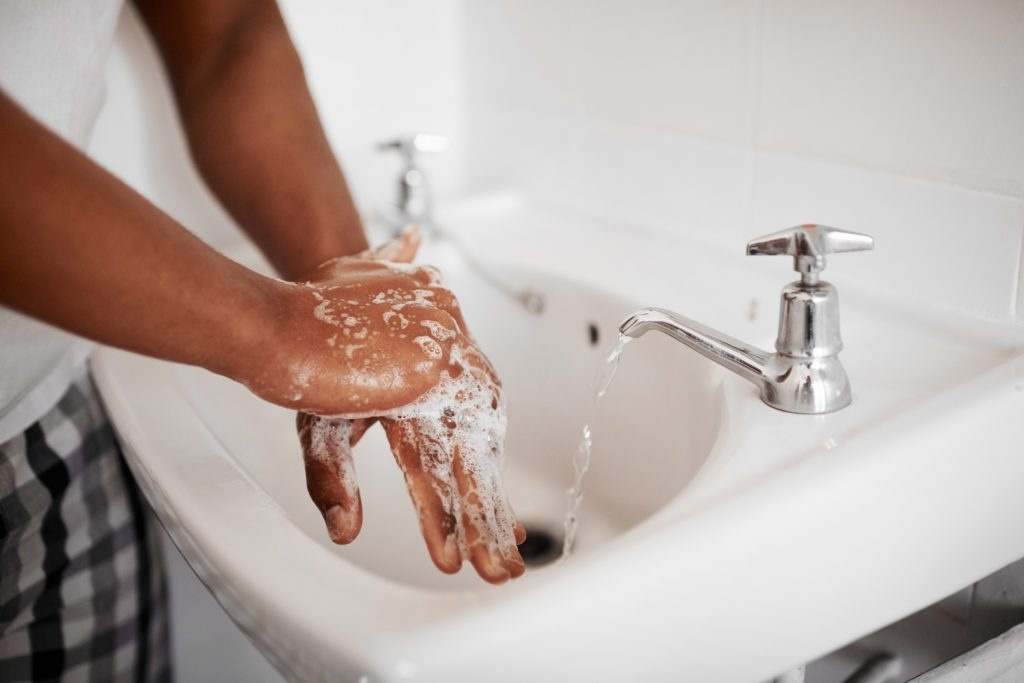washing hand: (211, 88, 878, 601)
